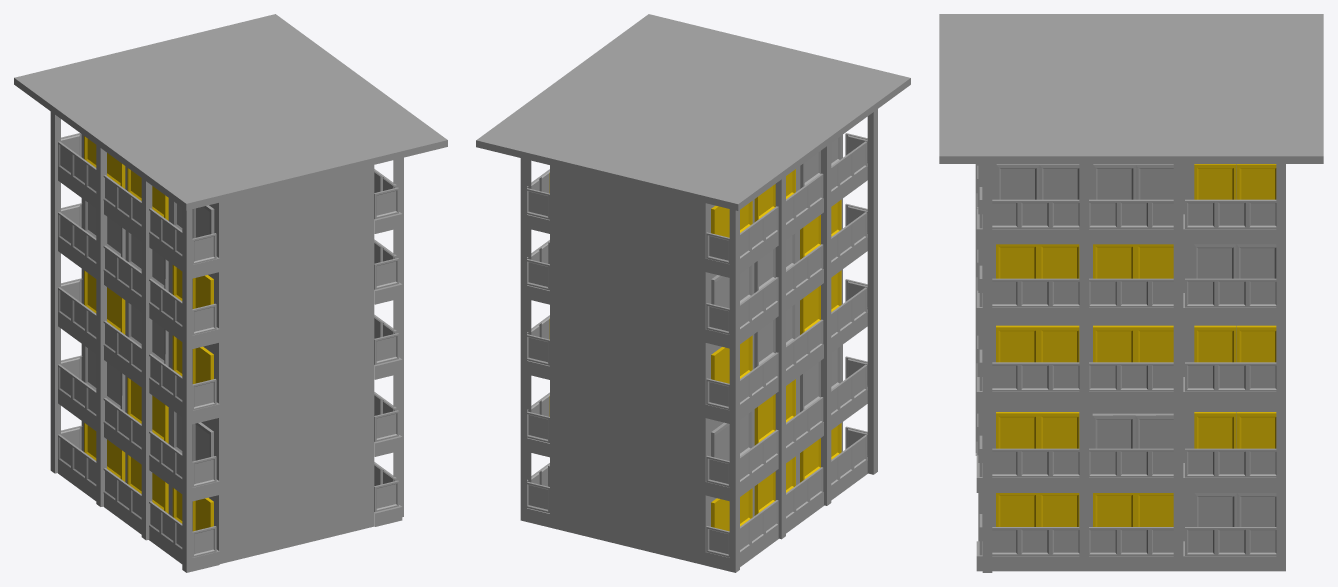
Rendered from appartment_Roof_NoSide.fbx.
3 renders of one model, left to right at view 1: azimuth 30°, elevation 25°; view 2: azimuth 150°, elevation 25°; view 3: azimuth 270°, elevation 25°, orthographic. The views are drawn at different scales.
Visible parts, largest first — view 1: polySurface2825; view 2: polySurface2825; view 3: polySurface2825.
Part boxes in pixels (left/top/right/bottom): polySurface2825: left=14, top=14, right=447, bottom=572; polySurface2825: left=476, top=14, right=910, bottom=572; polySurface2825: left=939, top=14, right=1323, bottom=572.
Size of the model in its own units: 682 by 962 by 778.
